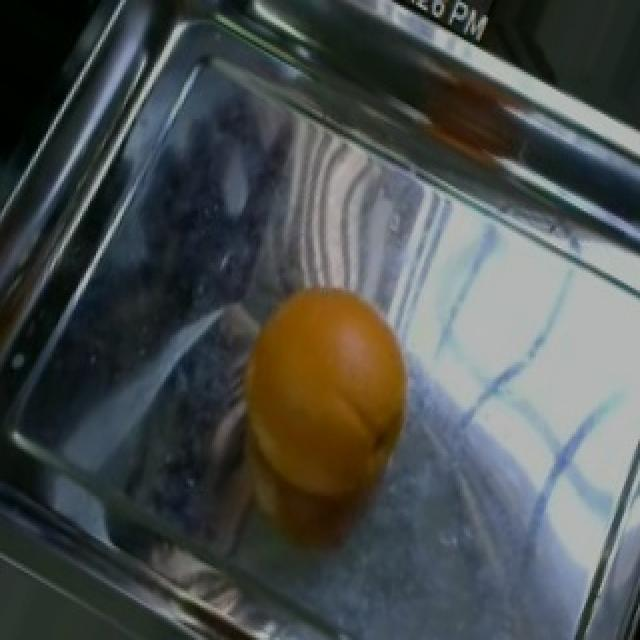Fruit: (210, 261, 436, 518)
